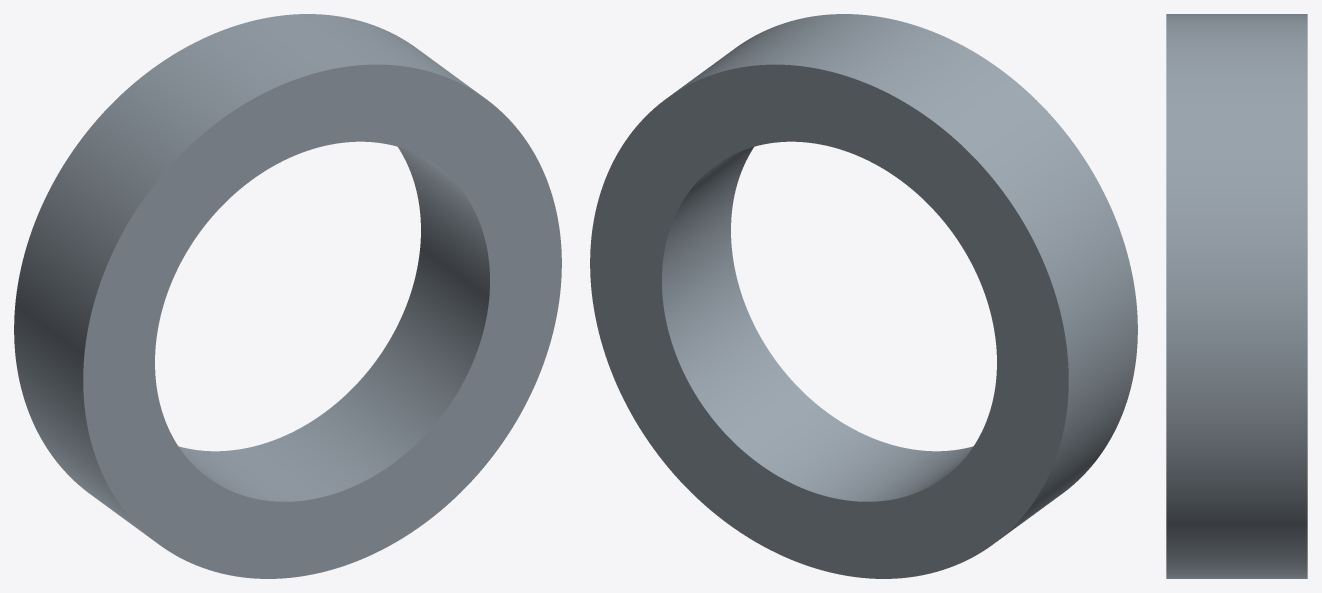
3 views of the same model, side by side, from view 1: azimuth 30°, elevation 25°; view 2: azimuth 150°, elevation 25°; view 3: azimuth 270°, elevation 25° (orthographic). The views are drawn at different scales.
Size of the model in its own units: 0.1 by 0.1 by 0.025.
